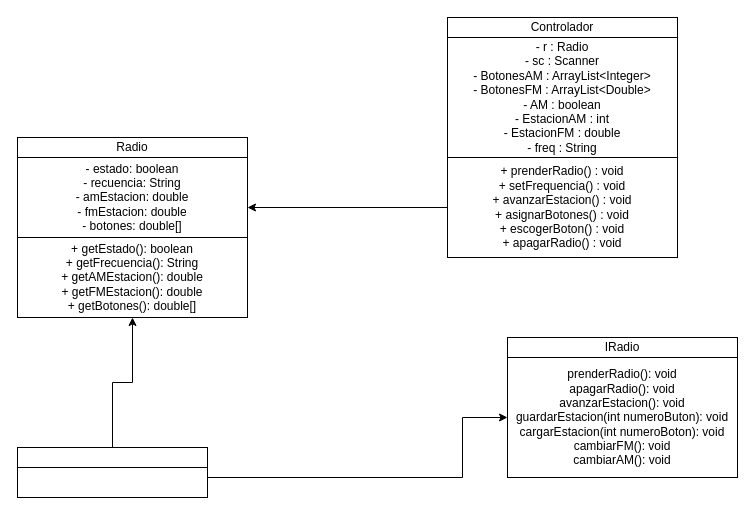
Some shapes in this 755 by 515 pixel diagram are drawn without their labels. Each missing label, with the box of its shape:
Main: (16, 446, 208, 468)
main(args : String() : void: (16, 466, 208, 498)
